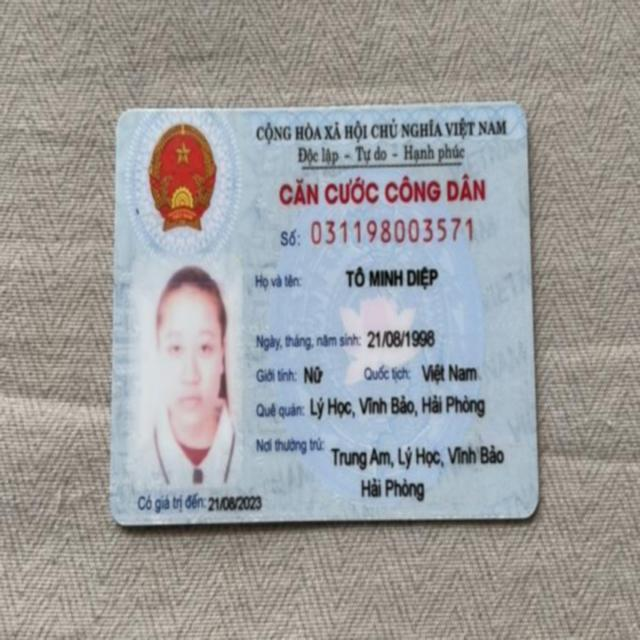bottom_left: (91, 501, 136, 544)
bottom_right: (504, 491, 548, 537)
image_person: (134, 258, 242, 490)
top_left: (103, 98, 147, 140)
top_right: (498, 89, 540, 130)
